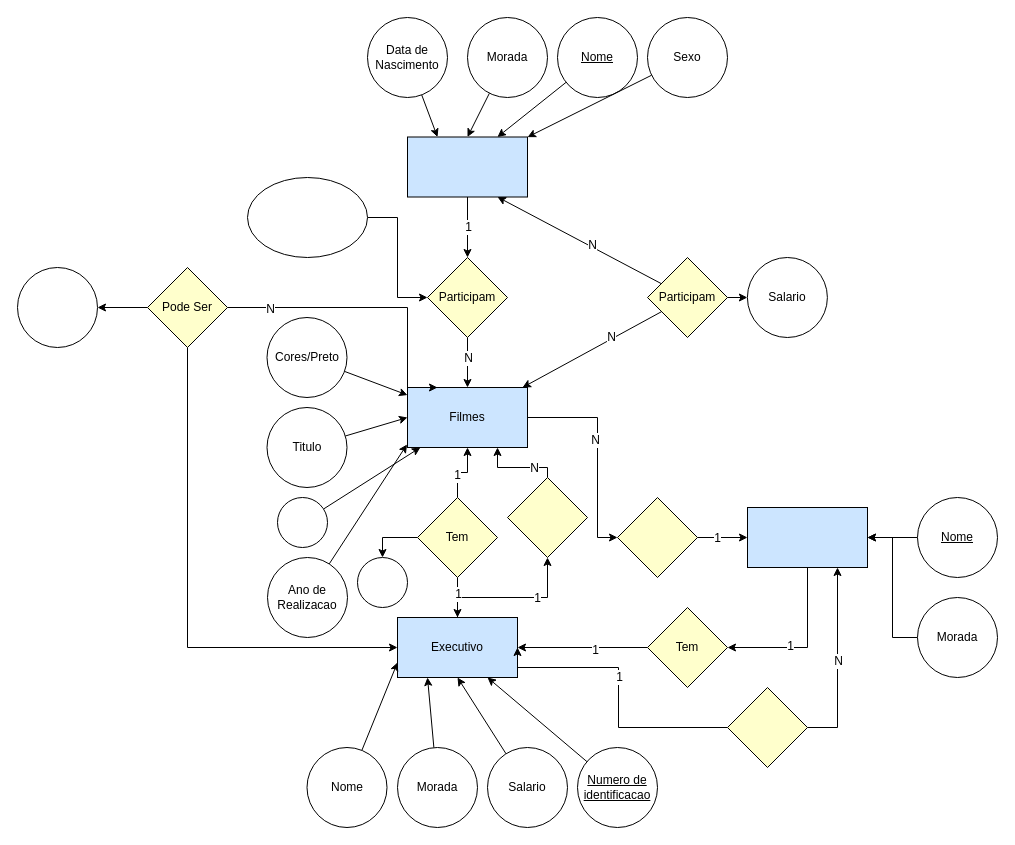
This 1015x845 diagram has some shape labels left out. Here are the shapes that lost their labels. From the top down, the centre of each, then its label:
At point (467, 166): "Actores".
At point (307, 217): "Elenco".
At point (57, 307): "Presidente".
At point (302, 522): "Duracao".
At point (547, 517): "Produz".
At point (657, 537): "Pertencem".
At point (807, 537): "Estudio".
At point (382, 582): "Produtor".
At point (767, 727): "Preside".
